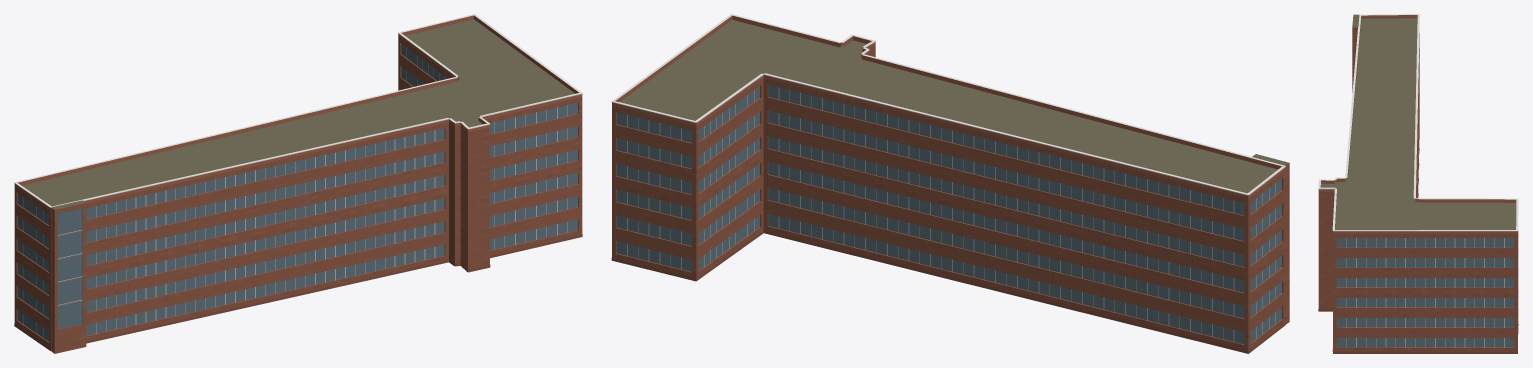
3 renders of one model, left to right at view 1: azimuth 30°, elevation 25°; view 2: azimuth 150°, elevation 25°; view 3: azimuth 270°, elevation 25°, orthographic. The views are drawn at different scales.
Visible parts, largest first — view 1: leeCheondeuk__wall, leeCheondeuk__glass, leeCheondeuk__roof, leeCheondeuk__parapet, leeCheondeuk__frame, leeCheondeuk__trim, leeCheondeuk__base; view 2: leeCheondeuk__wall, leeCheondeuk__glass, leeCheondeuk__roof, leeCheondeuk__parapet, leeCheondeuk__frame, leeCheondeuk__trim, leeCheondeuk__base; view 3: leeCheondeuk__roof, leeCheondeuk__wall, leeCheondeuk__glass, leeCheondeuk__trim, leeCheondeuk__parapet, leeCheondeuk__frame, leeCheondeuk__base.
Boxes of the visible parts, bbox=[...] form: leeCheondeuk__wall: bbox=[14, 37, 582, 353]; leeCheondeuk__glass: bbox=[17, 44, 577, 341]; leeCheondeuk__roof: bbox=[22, 19, 574, 209]; leeCheondeuk__parapet: bbox=[14, 15, 582, 211]; leeCheondeuk__frame: bbox=[23, 47, 567, 337]; leeCheondeuk__trim: bbox=[14, 14, 582, 207]; leeCheondeuk__base: bbox=[14, 234, 582, 350]; leeCheondeuk__wall: bbox=[612, 45, 1289, 353]; leeCheondeuk__glass: bbox=[616, 84, 1281, 344]; leeCheondeuk__roof: bbox=[620, 20, 1289, 193]; leeCheondeuk__parapet: bbox=[612, 15, 1285, 198]; leeCheondeuk__frame: bbox=[627, 87, 1275, 341]; leeCheondeuk__trim: bbox=[611, 14, 1285, 195]; leeCheondeuk__base: bbox=[611, 230, 1285, 353]; leeCheondeuk__roof: bbox=[1321, 14, 1516, 229]; leeCheondeuk__wall: bbox=[1318, 27, 1518, 351]; leeCheondeuk__glass: bbox=[1336, 238, 1514, 347]; leeCheondeuk__trim: bbox=[1318, 14, 1518, 231]; leeCheondeuk__parapet: bbox=[1318, 15, 1517, 233]; leeCheondeuk__frame: bbox=[1346, 238, 1504, 347]; leeCheondeuk__base: bbox=[1318, 148, 1518, 353].
Size of the model in its own units: 83.84 by 22.25 by 32.73.
Materials: 7 (1 with a texture image).
